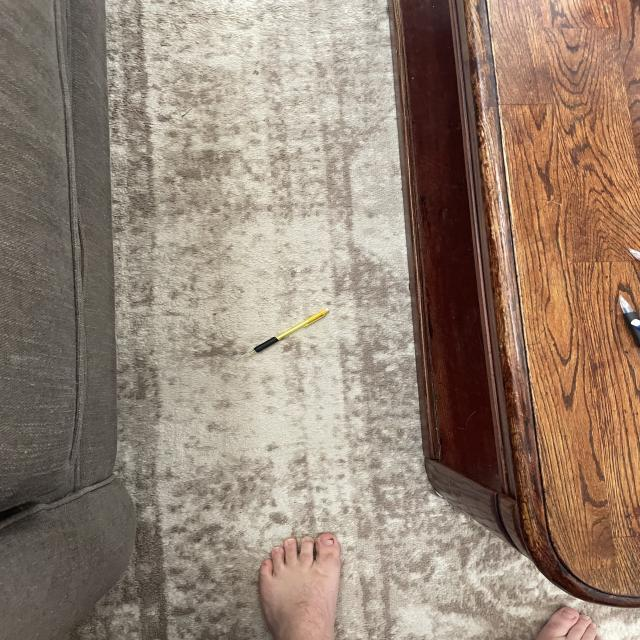mechanical-pencils: (239, 312, 332, 360)
